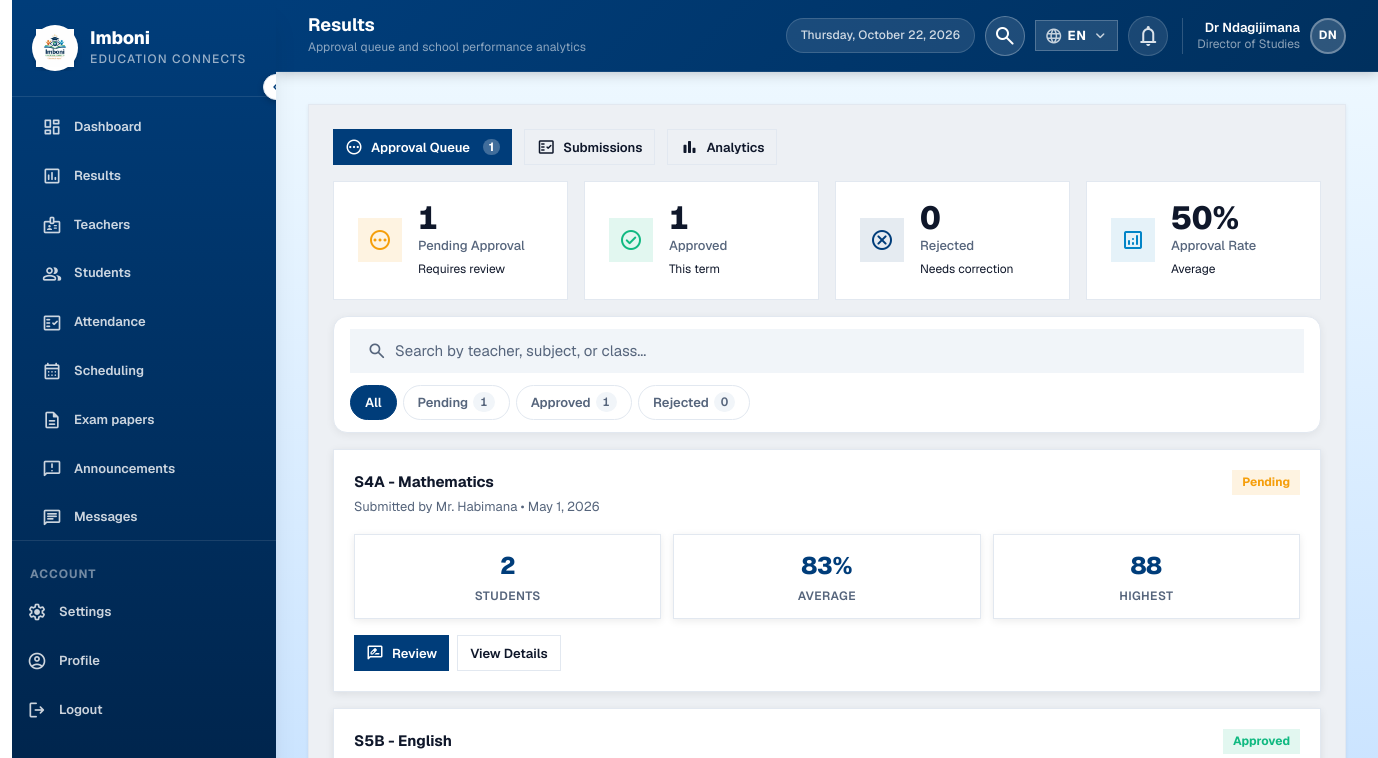
Test: DosResults › fetches analytics data when switching to the Analytics tab
Expected: the text "S4A - Mathematics" is shown, [354, 472, 494, 491]
What coordinates should you click on to do the following:
click the button "Analytics"
I would click on:
 (722, 147)
Its box is [667, 129, 777, 165].
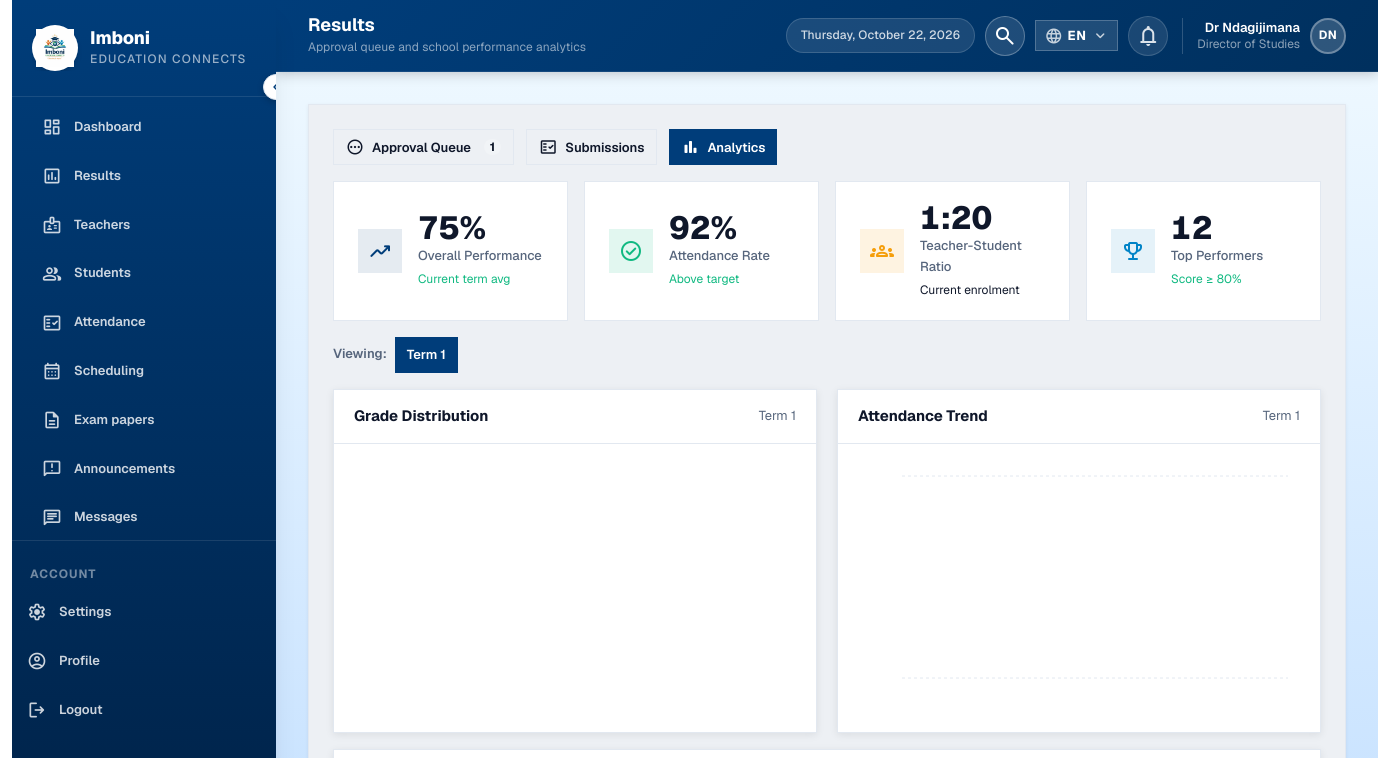
Expected: the text "Overall Performance" is shown, [418, 246, 542, 267]
Expected: the text "75%" is shown, [418, 207, 486, 248]
